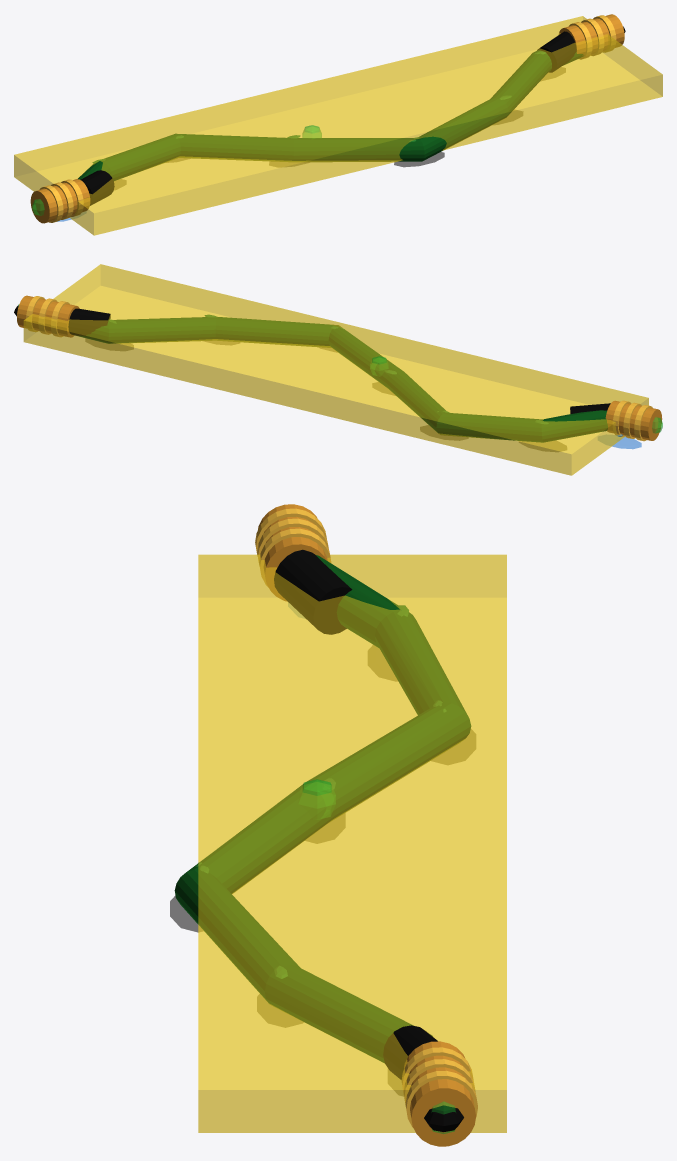
The model's file is garden_hose_between_tap_and_sprinkler.obj.
3 views of the same model, one above another, from view 1: azimuth 30°, elevation 25°; view 2: azimuth 150°, elevation 25°; view 3: azimuth 270°, elevation 25° (orthographic). The views are drawn at different scales.
Visible parts, largest first — view 1: Guide_Trip_Hazard_Trigger_delete_or_hide, Flexible_green_garden_hose_curved_body, Tap_end_female_connector_brass_coupler_body, Sprinkler_end_male_connector_brass_coupler_body, Sprinkler_end_black_rubber_strain_relief, Tap_end_black_rubber_strain_relief; view 2: Guide_Trip_Hazard_Trigger_delete_or_hide, Flexible_green_garden_hose_curved_body, Tap_end_female_connector_brass_coupler_body, Sprinkler_end_male_connector_brass_coupler_body, Sprinkler_end_black_rubber_strain_relief, Small_wet_spot_under_tap_connector, Soft_ground_contact_shadow_under_hose_01; view 3: Guide_Trip_Hazard_Trigger_delete_or_hide, Flexible_green_garden_hose_curved_body, Tap_end_black_rubber_strain_relief, Sprinkler_end_male_connector_brass_coupler_body, Tap_end_female_connector_brass_coupler_body, Sprinkler_end_black_rubber_strain_relief, Guide_Interaction_Point_CarryOrDragHose.
Part boxes in pixels (<box>): Guide_Trip_Hazard_Trigger_delete_or_hide: <box>14,16,662,235</box>; Flexible_green_garden_hose_curved_body: <box>78,50,583,180</box>; Tap_end_female_connector_brass_coupler_body: <box>30,179,90,223</box>; Sprinkler_end_male_connector_brass_coupler_body: <box>558,14,624,55</box>; Sprinkler_end_black_rubber_strain_relief: <box>537,31,576,72</box>; Tap_end_black_rubber_strain_relief: <box>80,170,114,205</box>; Guide_Trip_Hazard_Trigger_delete_or_hide: <box>23,264,648,475</box>; Flexible_green_garden_hose_curved_body: <box>75,317,607,442</box>; Tap_end_female_connector_brass_coupler_body: <box>605,400,662,440</box>; Sprinkler_end_male_connector_brass_coupler_body: <box>17,295,79,337</box>; Sprinkler_end_black_rubber_strain_relief: <box>68,308,110,335</box>; Small_wet_spot_under_tap_connector: <box>598,435,641,449</box>; Soft_ground_contact_shadow_under_hose_01: <box>519,441,566,451</box>; Guide_Trip_Hazard_Trigger_delete_or_hide: <box>198,554,506,1132</box>; Flexible_green_garden_hose_curved_body: <box>174,555,471,1063</box>; Tap_end_black_rubber_strain_relief: <box>274,549,352,634</box>; Sprinkler_end_male_connector_brass_coupler_body: <box>404,1041,475,1146</box>; Tap_end_female_connector_brass_coupler_body: <box>258,504,327,601</box>; Sprinkler_end_black_rubber_strain_relief: <box>383,1025,437,1079</box>; Guide_Interaction_Point_CarryOrDragHose: <box>299,779,335,819</box>.
Size of what is drawn, in the model's own units: 3.56 by 0.215 by 0.8523.
